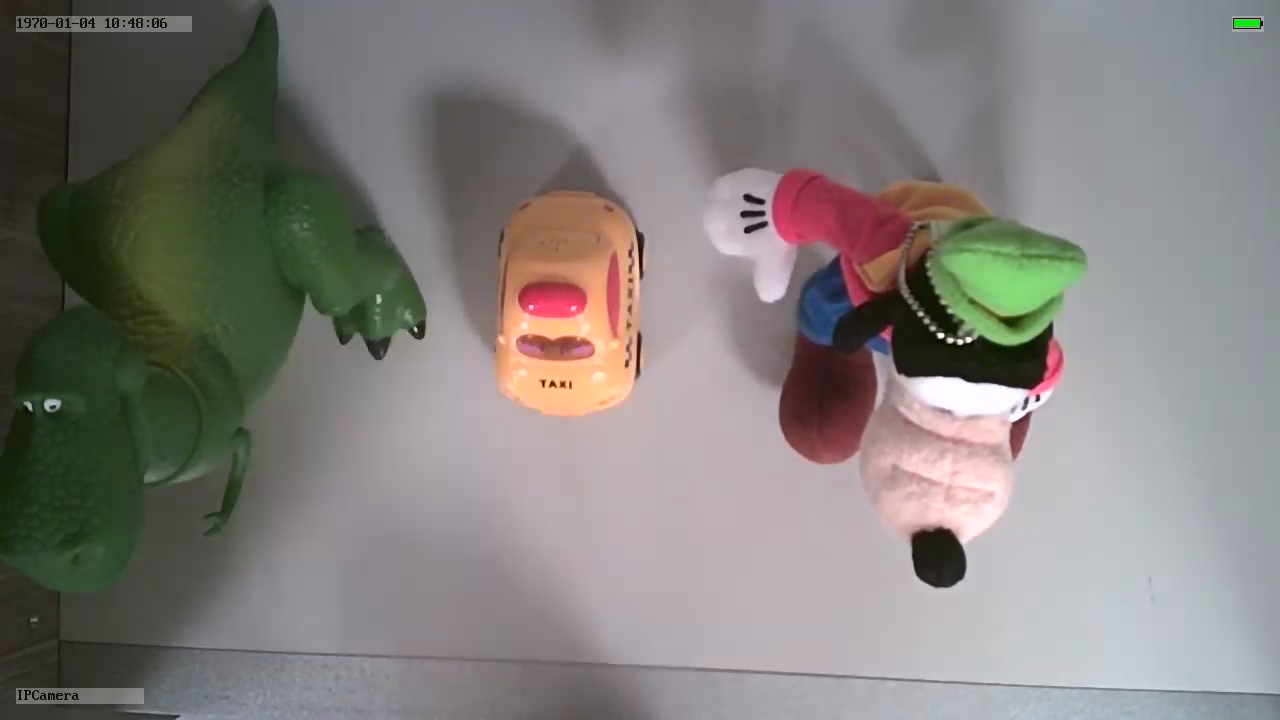goofy: (698, 159, 1093, 597)
